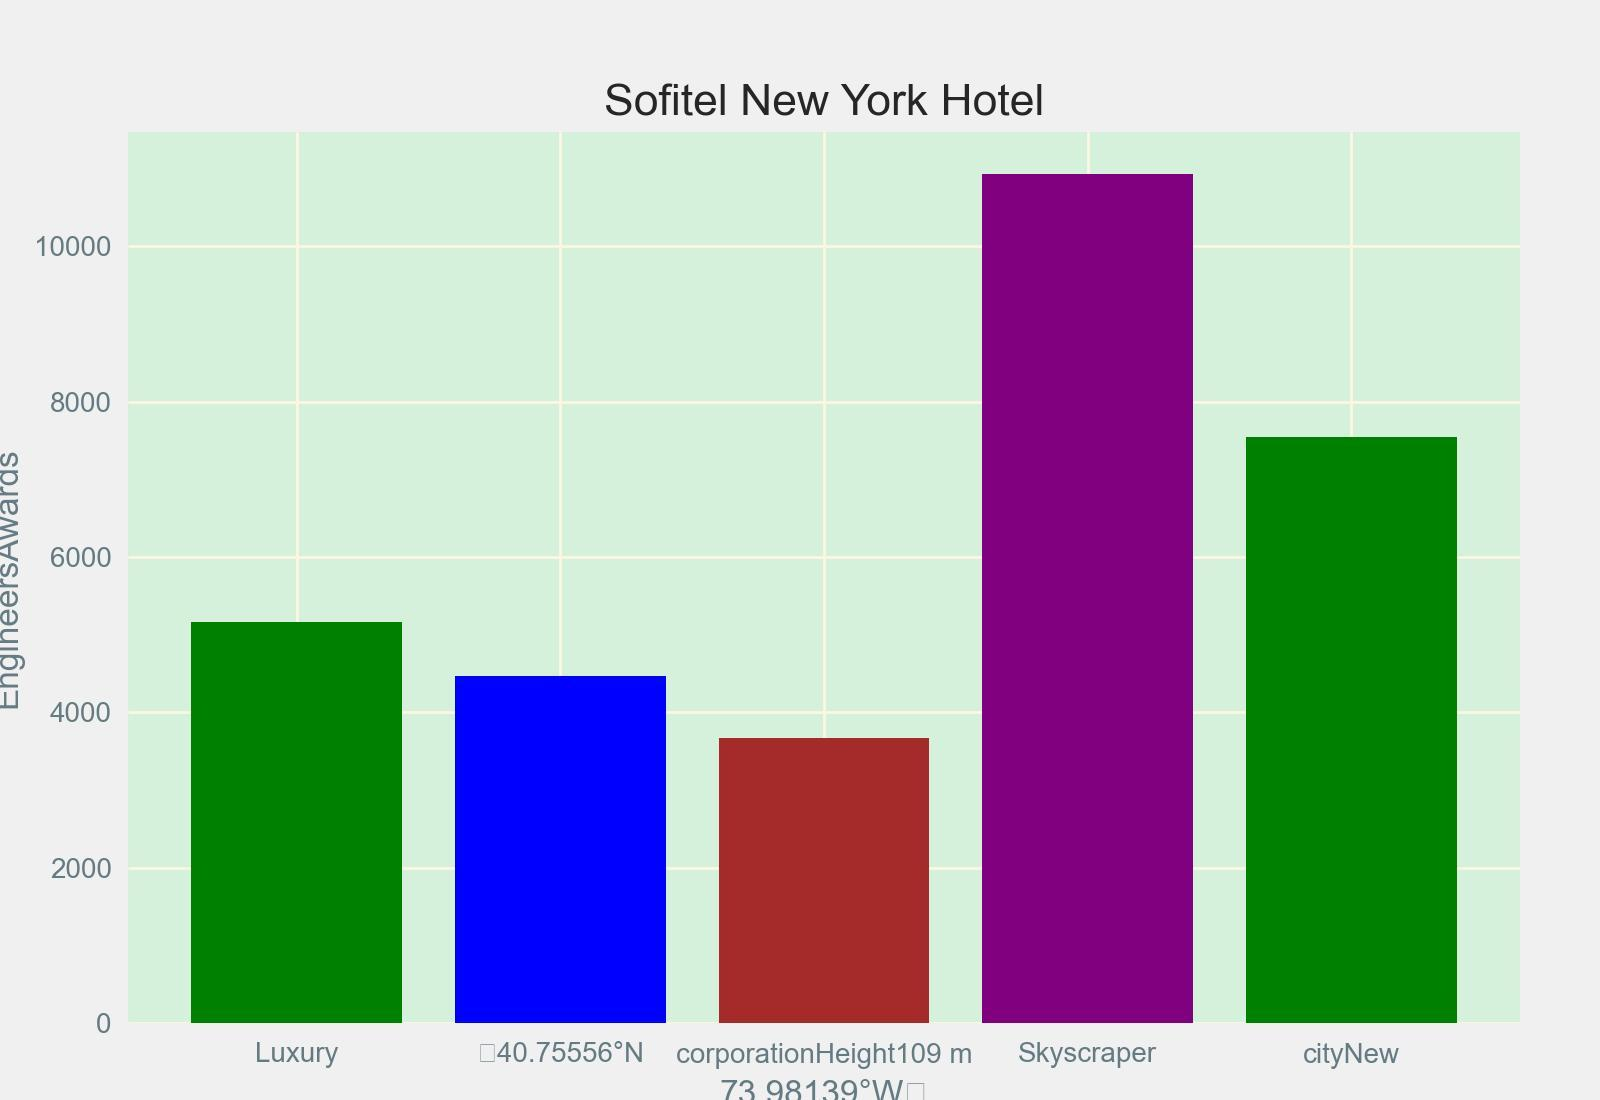axis: (0, 236, 112, 1039)
rectangle: (982, 174, 1193, 1023), (1246, 438, 1457, 1023), (191, 622, 402, 1023), (455, 676, 666, 1023), (719, 738, 930, 1023)
